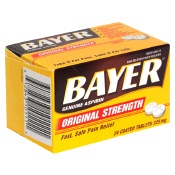grozi_24: (5, 23, 170, 153)
